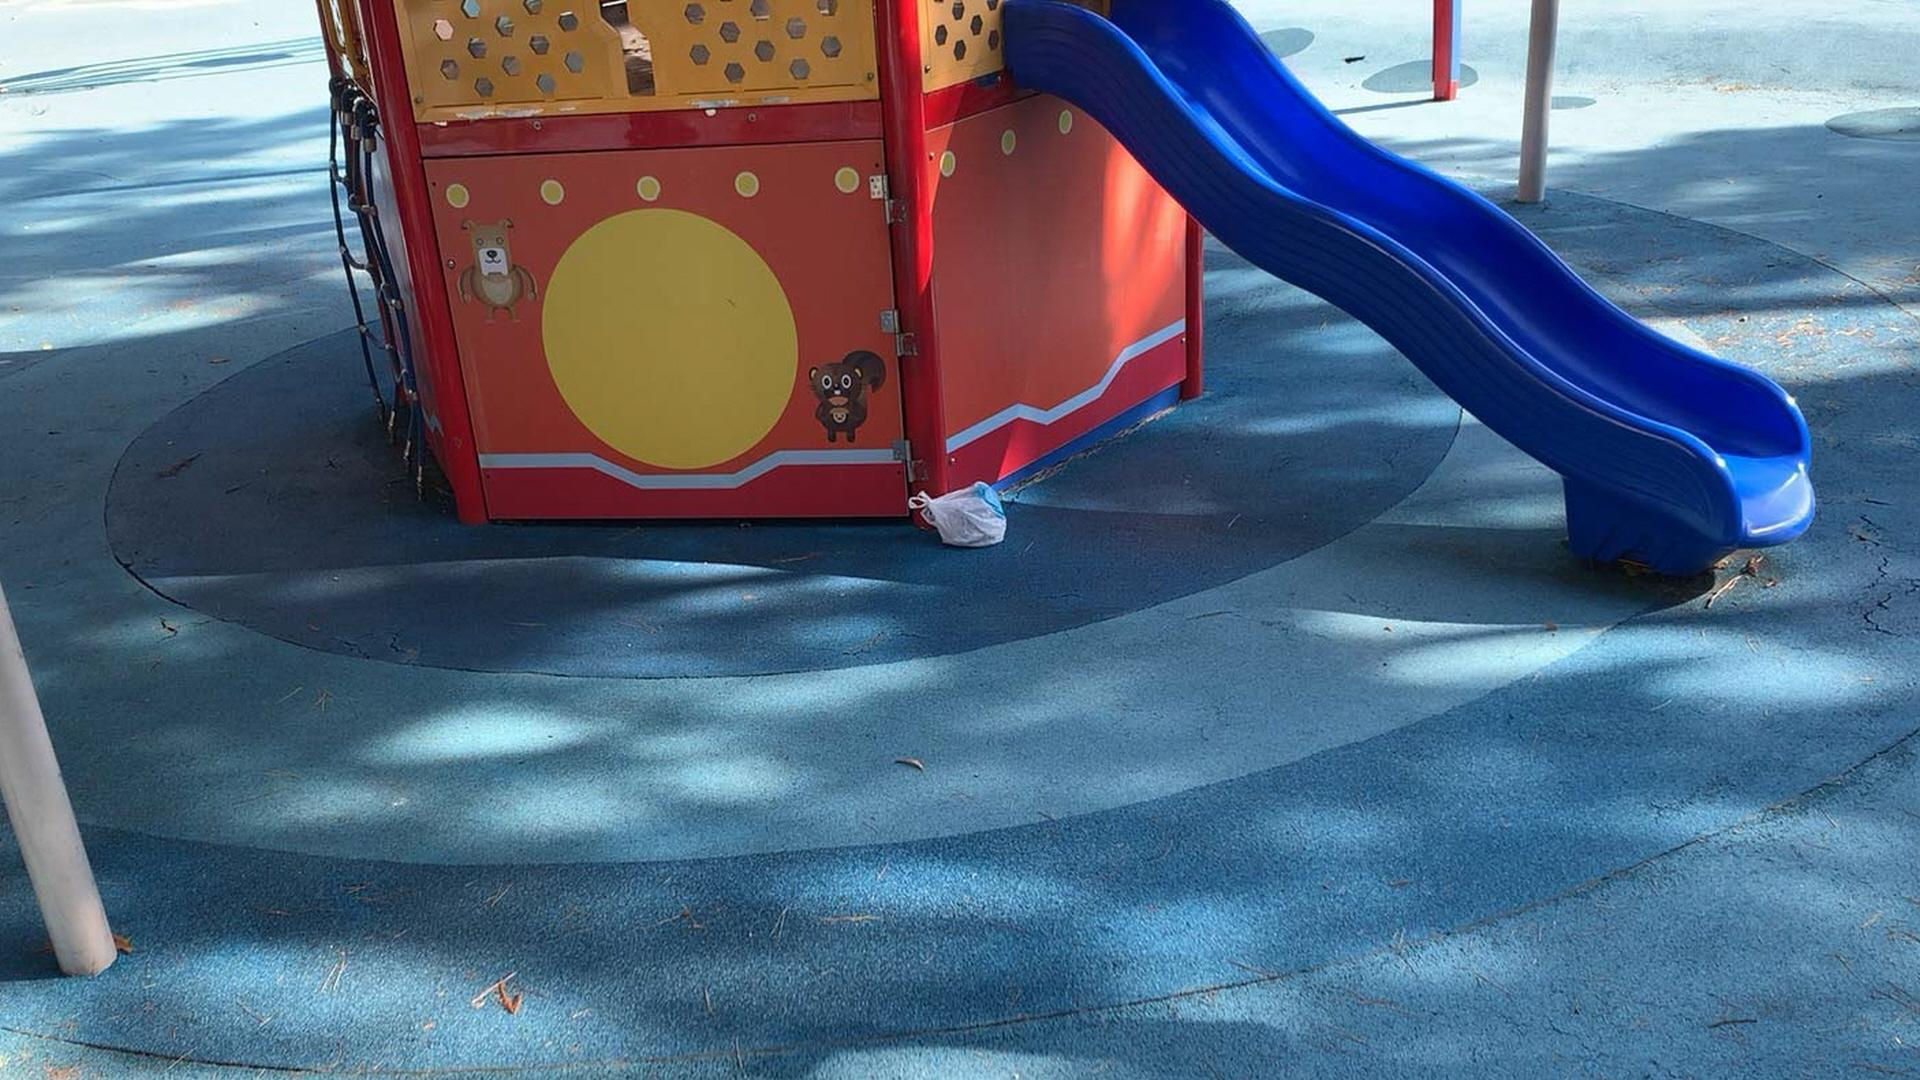white_bag: (901, 475, 1015, 556)
